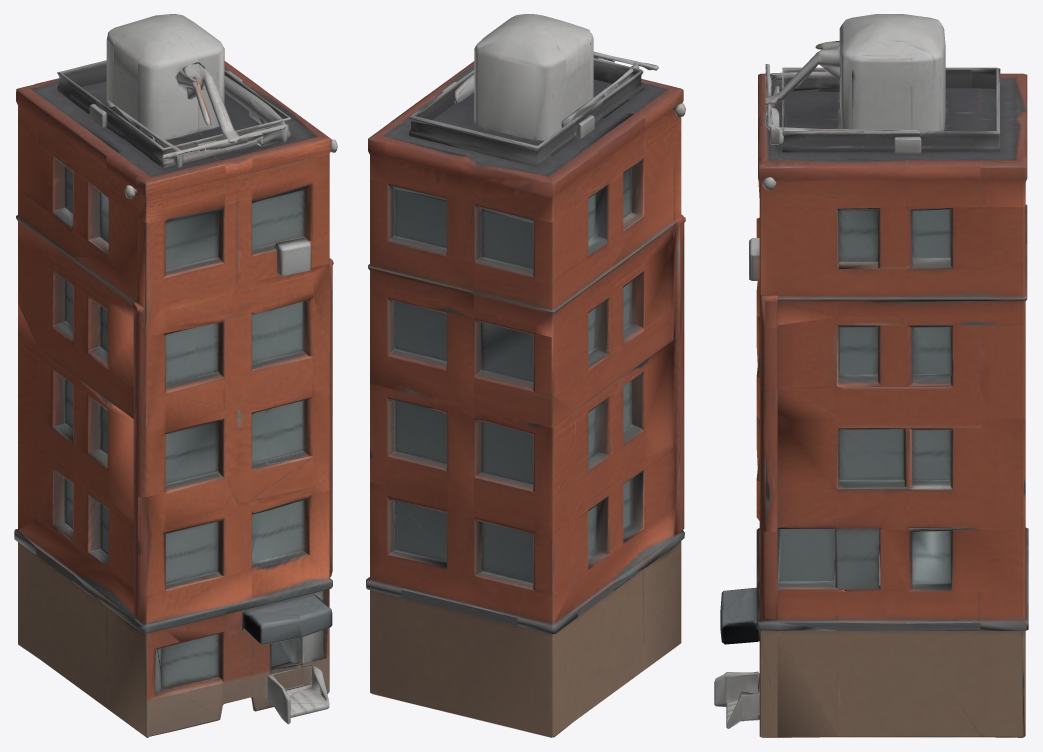
File: Worldd415a7bf75.glb
3 views of the same model, side by side, from view 1: azimuth 30°, elevation 25°; view 2: azimuth 150°, elevation 25°; view 3: azimuth 270°, elevation 25° (orthographic). The views are drawn at different scales.
Parts seen in each view (by area): view 1: mesh_node; view 2: mesh_node; view 3: mesh_node.
Part boxes in pixels (x1=…): mesh_node: x1=14, y1=14, x2=337, y2=737; mesh_node: x1=366, y1=14, x2=685, y2=737; mesh_node: x1=714, y1=14, x2=1028, y2=737.
Size of the model in its own units: 2.35 by 7 by 2.99.
1 material, 1 textured.
